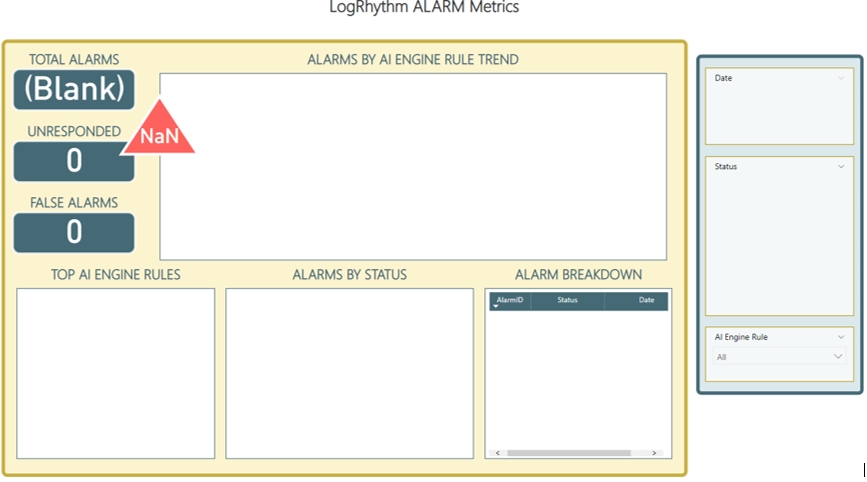

Layout of this report page (visuals, bound fields, positions):
{"tool":"powerbi","page":{"name":"Alarm Details","canvas":[1280,720],"ordinal":1},"visuals":[{"type":"basicShape","box":[16,72,1016,648],"z":0},{"type":"textbox","box":[0,8,1280,48],"z":1000},{"type":"basicShape","box":[1032,96,248,504],"z":2000},{"type":"textbox","box":[240,88,768,40],"z":4000},{"type":"BarChartF5983CEA542C47889C9DE852B430DE5F","fields":{"category":["AIERule.Name"],"overlapValues":["Alarm.-FalseAlarms"],"measure":["Alarm.-InvestigatedAlarms"]},"box":[48,440,288,248],"z":5000},{"type":"slicer","fields":{"Values":["_AlarmDetails.Status"]},"box":[1048,248,216,232],"z":6000},{"type":"slicer","fields":{"Values":["Calendar.Date"]},"box":[1048,120,216,112],"z":7000},{"type":"slicer","fields":{"Values":["AIERule.Name"]},"box":[1048,496,216,80],"z":8000},{"type":"basicShape","box":[40,120,184,64],"z":9000},{"type":"basicShape","box":[40,224,184,64],"z":10000},{"type":"basicShape","box":[40,328,184,64],"z":11000},{"type":"lineStackedColumnComboChart","fields":{"Category":["Calendar.Date","Alarm.AlarmStatus"],"Y":["CountNonNull(Alarm.AlarmID)"],"Series":["AIERule.Name"]},"box":[256,128,736,272],"z":12000},{"type":"card","fields":{"Values":["CountNonNull(Alarm.AlarmID)"]},"box":[48,112,168,64],"z":13000},{"type":"lineChart","fields":{"Y":["Count(Alarm.AlarmID)"],"Category":["Calendar.Date"],"Series":["_AlarmDetails.Status"]},"box":[352,440,360,248],"z":14000},{"type":"tableEx","fields":{"Values":["Alarm.AlarmID","_AlarmDetails.Status","Calendar.Date"]},"box":[728,440,272,248],"z":15000},{"type":"card","fields":{"Values":["Alarm.-Unresponded"]},"box":[48,216,168,64],"z":16000},{"type":"card","fields":{"Values":["Alarm.-FalseAlarms"]},"box":[48,320,168,64],"z":17000},{"type":"textbox","box":[48,400,288,40],"z":18000},{"type":"textbox","box":[352,400,360,40],"z":19000},{"type":"textbox","box":[720,400,288,40],"z":20000},{"type":"textbox","box":[32,88,200,40],"z":21000},{"type":"textbox","box":[32,192,200,40],"z":22000},{"type":"textbox","box":[32,296,200,40],"z":23000},{"type":"basicShape","box":[176,144,160,112],"z":24000},{"type":"card","fields":{"Values":["Alarm.-Unresponded%"]},"box":[208,192,96,48],"z":25000}]}

Visuals, with their boxes in screenshot pixels (x1, y1, x2, y2), scaled from the page's 1280x720 canvas onto the 867x482 screenshot:
basicShape: <bbox>11, 48, 699, 481</bbox>
textbox: <bbox>0, 5, 866, 37</bbox>
basicShape: <bbox>699, 64, 866, 402</bbox>
textbox: <bbox>163, 59, 683, 86</bbox>
BarChartF5983CEA542C47889C9DE852B430DE5F - AIERule.Name x Alarm.-FalseAlarms: <bbox>33, 295, 228, 461</bbox>
slicer - _AlarmDetails.Status: <bbox>710, 166, 856, 321</bbox>
slicer - Calendar.Date: <bbox>710, 80, 856, 155</bbox>
slicer - AIERule.Name: <bbox>710, 332, 856, 386</bbox>
basicShape: <bbox>27, 80, 152, 123</bbox>
basicShape: <bbox>27, 150, 152, 193</bbox>
basicShape: <bbox>27, 220, 152, 262</bbox>
lineStackedColumnComboChart - Calendar.Date x Alarm.AlarmStatus: <bbox>173, 86, 672, 268</bbox>
card - CountNonNull(Alarm.AlarmID): <bbox>33, 75, 146, 118</bbox>
lineChart - Count(Alarm.AlarmID) x Calendar.Date: <bbox>238, 295, 482, 461</bbox>
tableEx - Alarm.AlarmID x _AlarmDetails.Status: <bbox>493, 295, 677, 461</bbox>
card - Alarm.-Unresponded: <bbox>33, 145, 146, 187</bbox>
card - Alarm.-FalseAlarms: <bbox>33, 214, 146, 257</bbox>
textbox: <bbox>33, 268, 228, 295</bbox>
textbox: <bbox>238, 268, 482, 295</bbox>
textbox: <bbox>488, 268, 683, 295</bbox>
textbox: <bbox>22, 59, 157, 86</bbox>
textbox: <bbox>22, 129, 157, 155</bbox>
textbox: <bbox>22, 198, 157, 225</bbox>
basicShape: <bbox>119, 96, 228, 171</bbox>
card - Alarm.-Unresponded%: <bbox>141, 129, 206, 161</bbox>
